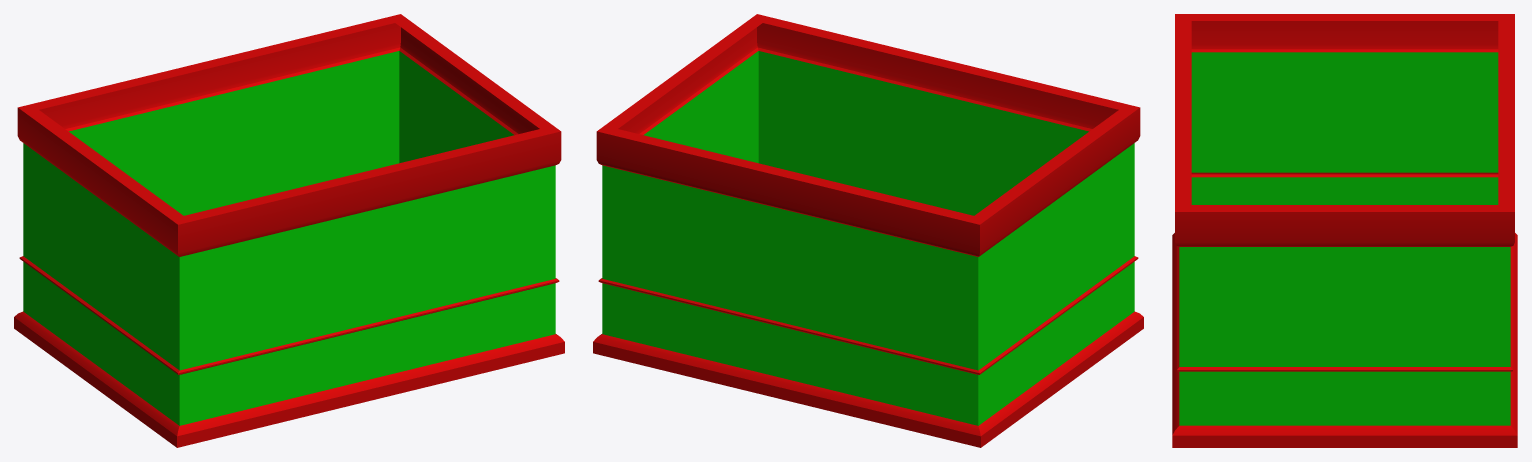
The model's file is Building02_Top_Nice.fbx.
3 renders of one model, left to right at view 1: azimuth 30°, elevation 25°; view 2: azimuth 150°, elevation 25°; view 3: azimuth 270°, elevation 25°, orthographic. The views are drawn at different scales.
Parts seen in each view (by area): view 1: Building2_Top; view 2: Building2_Top; view 3: Building2_Top.
Part boxes in pixels (x1,y1,x2,y2): Building2_Top: (14, 14, 564, 447); Building2_Top: (593, 14, 1143, 447); Building2_Top: (1172, 14, 1517, 447).
Bounding box in the file's own units: 549 × 300 × 400.
